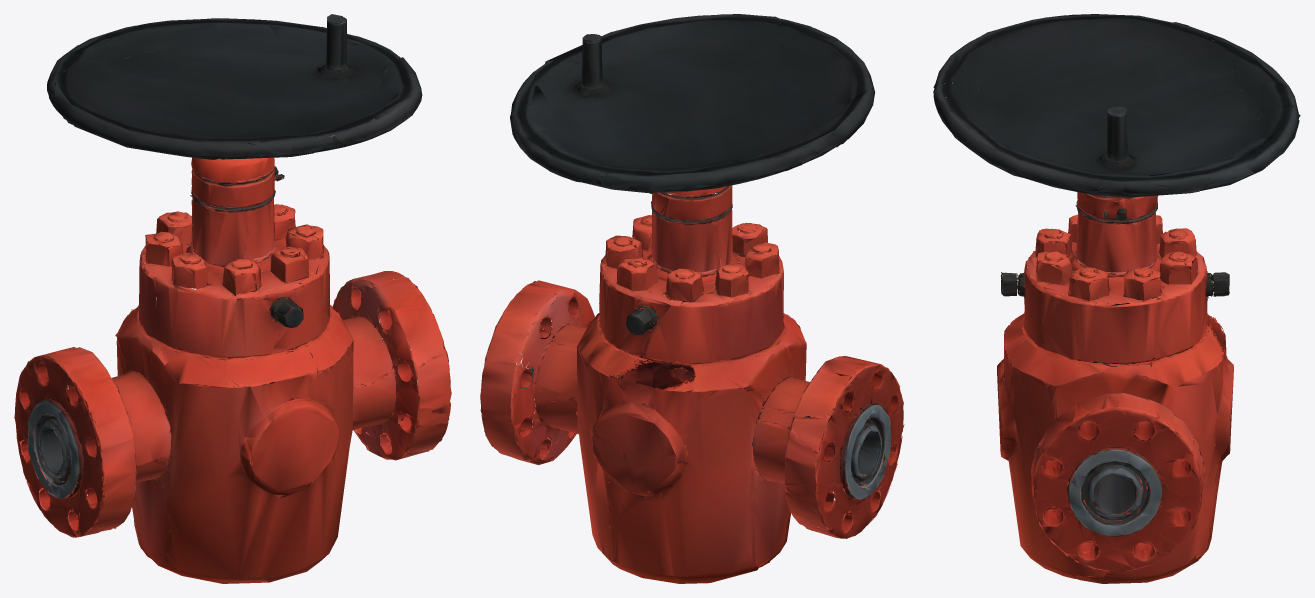
Rendered from valves.glb.
3 views of the same model, side by side, from view 1: azimuth 30°, elevation 25°; view 2: azimuth 150°, elevation 25°; view 3: azimuth 270°, elevation 25° (orthographic). The views are drawn at different scales.
Parts seen in each view (by area): view 1: model; view 2: model; view 3: model.
Boxes of the visible parts, box(x1,y1,x2,y2) form: model: box(14, 14, 451, 583); model: box(480, 14, 904, 583); model: box(933, 14, 1300, 583).
Bounding box in the file's own units: 1.43 × 1.9 × 1.29.
1 material, 1 textured.
